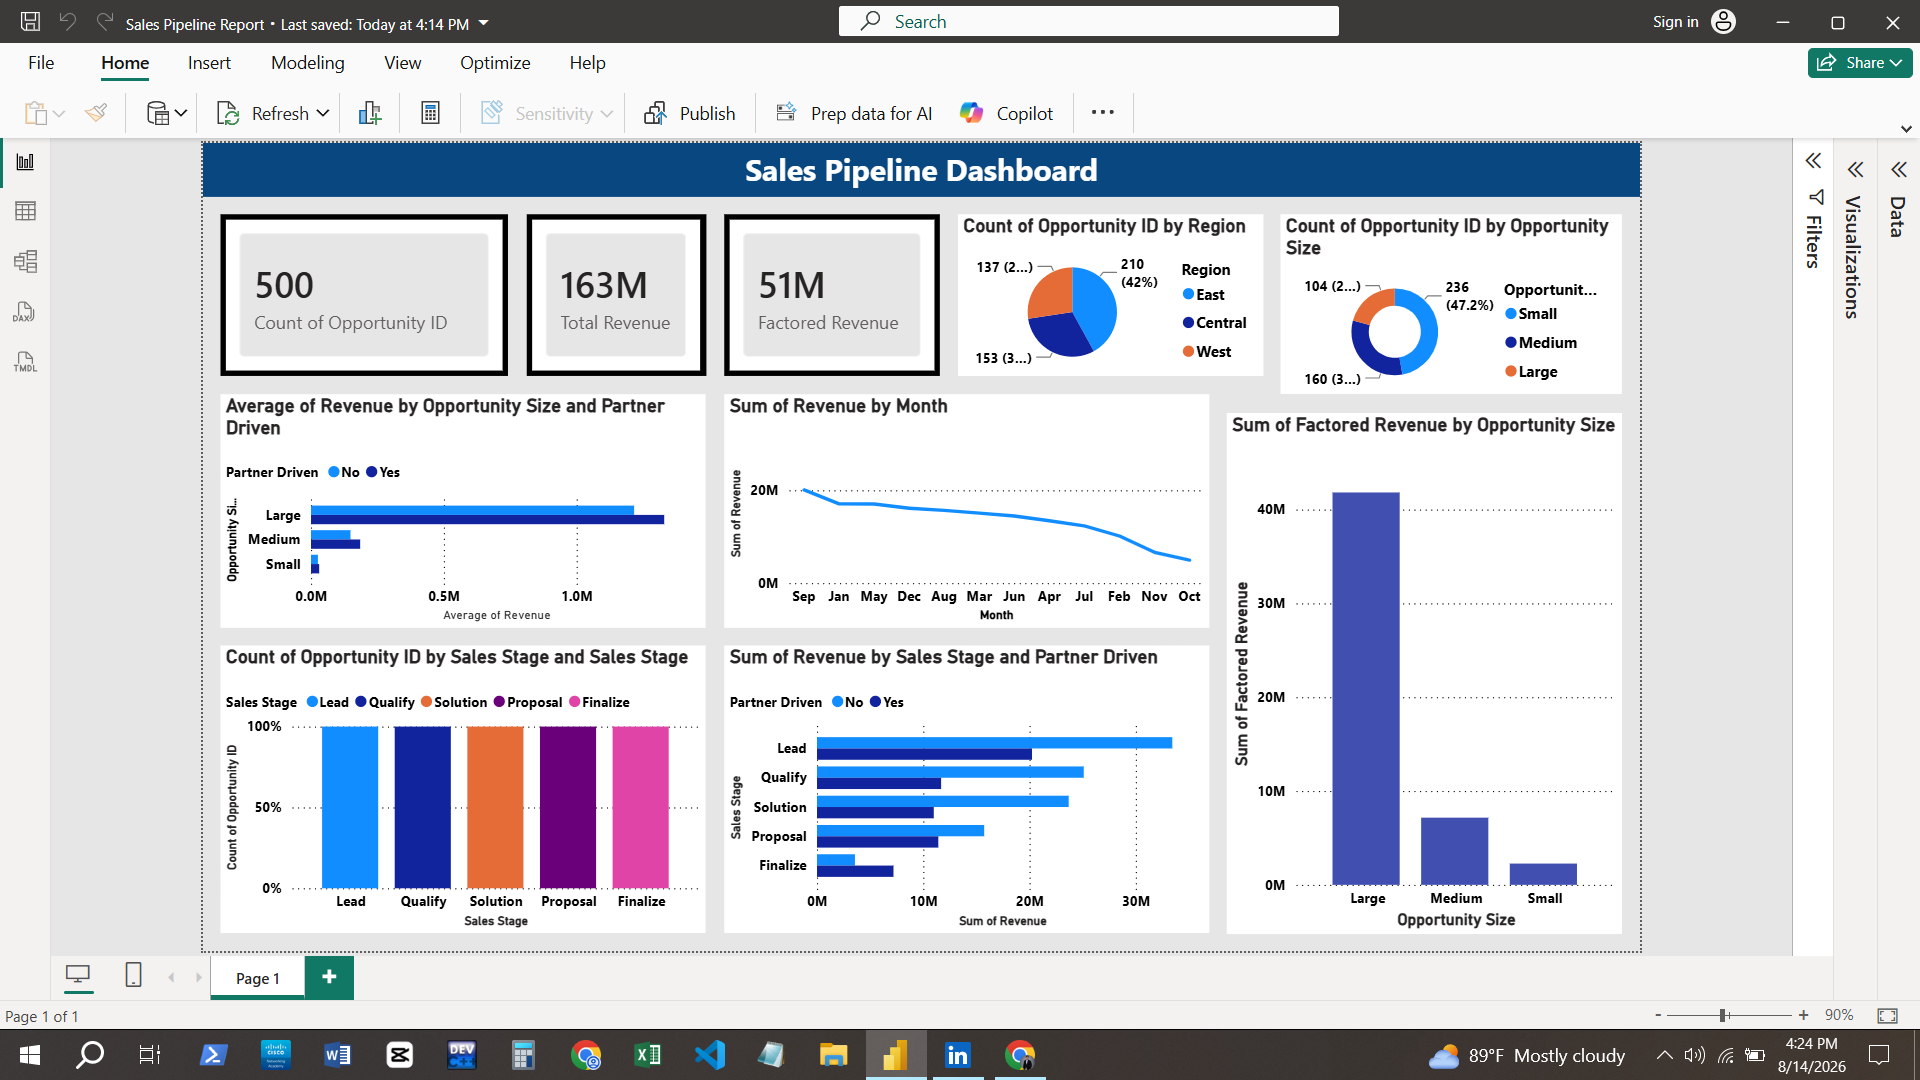

The page's visual inventory and layout, read from the dashboard file:
{"tool":"powerbi","page":{"name":"Page 1","canvas":[1280,720],"ordinal":0},"visuals":[{"type":"cardVisual","fields":{"Data":["CountNonNull(Opportunities.Opportunity ID)"]},"box":[16,64,256,144],"z":0},{"type":"pieChart","fields":{"Category":["Opportunities.Region"],"Y":["CountNonNull(Opportunities.Opportunity ID)"]},"box":[672,64,272,144],"z":1},{"type":"hundredPercentStackedColumnChart","fields":{"Category":["Opportunities.Sales Stage"],"Y":["CountNonNull(Opportunities.Opportunity ID)"],"Series":["Opportunities.Sales Stage"]},"box":[16,448,432,256],"z":2},{"type":"cardVisual","fields":{"Data":["Sum(Opportunities.Revenue)"]},"box":[288,64,160,144],"z":3},{"type":"lineChart","fields":{"Category":["Opportunities.Month"],"Y":["Sum(Opportunities.Revenue)"]},"box":[464,224,432,208],"z":4},{"type":"clusteredBarChart","fields":{"Category":["Opportunities.Sales Stage"],"Y":["Sum(Opportunities.Revenue)"],"Series":["Opportunities.Partner Driven"]},"box":[464,448,432,256],"z":5},{"type":"donutChart","fields":{"Category":["Opportunities.Opportunity Size"],"Y":["CountNonNull(Opportunities.Opportunity ID)"]},"box":[960,64,304,160],"z":6},{"type":"cardVisual","fields":{"Data":["Sum(Opportunities.Factored Revenue)"]},"box":[464,64,192,144],"z":7},{"type":"clusteredBarChart","fields":{"Category":["Opportunities.Opportunity Size"],"Y":["Avg(Opportunities.Revenue)"],"Series":["Opportunities.Partner Driven"]},"box":[16,224,432,208],"z":8},{"type":"clusteredColumnChart","fields":{"Category":["Opportunities.Opportunity Size"],"Y":["Sum(Opportunities.Factored Revenue)"]},"box":[912,240,352,464],"z":9},{"type":"textbox","box":[0,0,1280,48],"z":10}]}

Visuals, with their boxes on the page's 1280x720 design canvas (x1, y1, x2, y2). These are canvas units, not pixel positions in the 1920x1080 screenshot, which may show the page scaled, cropped or inside an application window:
cardVisual - CountNonNull(Opportunities.Opportunity ID): bbox=[16, 64, 272, 208]
pieChart - Opportunities.Region x CountNonNull(Opportunities.Opportunity ID): bbox=[672, 64, 944, 208]
hundredPercentStackedColumnChart - Opportunities.Sales Stage x CountNonNull(Opportunities.Opportunity ID): bbox=[16, 448, 448, 704]
cardVisual - Sum(Opportunities.Revenue): bbox=[288, 64, 448, 208]
lineChart - Opportunities.Month x Sum(Opportunities.Revenue): bbox=[464, 224, 896, 432]
clusteredBarChart - Opportunities.Sales Stage x Sum(Opportunities.Revenue): bbox=[464, 448, 896, 704]
donutChart - Opportunities.Opportunity Size x CountNonNull(Opportunities.Opportunity ID): bbox=[960, 64, 1264, 224]
cardVisual - Sum(Opportunities.Factored Revenue): bbox=[464, 64, 656, 208]
clusteredBarChart - Opportunities.Opportunity Size x Avg(Opportunities.Revenue): bbox=[16, 224, 448, 432]
clusteredColumnChart - Opportunities.Opportunity Size x Sum(Opportunities.Factored Revenue): bbox=[912, 240, 1264, 704]
textbox: bbox=[0, 0, 1280, 48]
